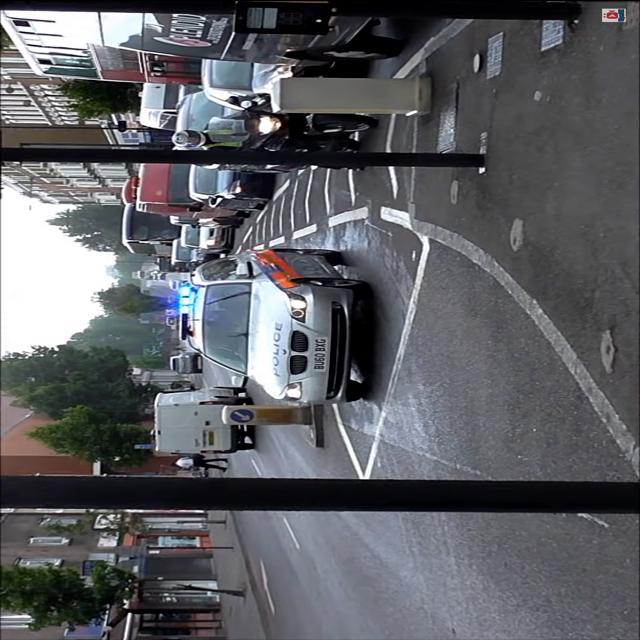emergency-vehicles: (170, 239, 378, 410)
